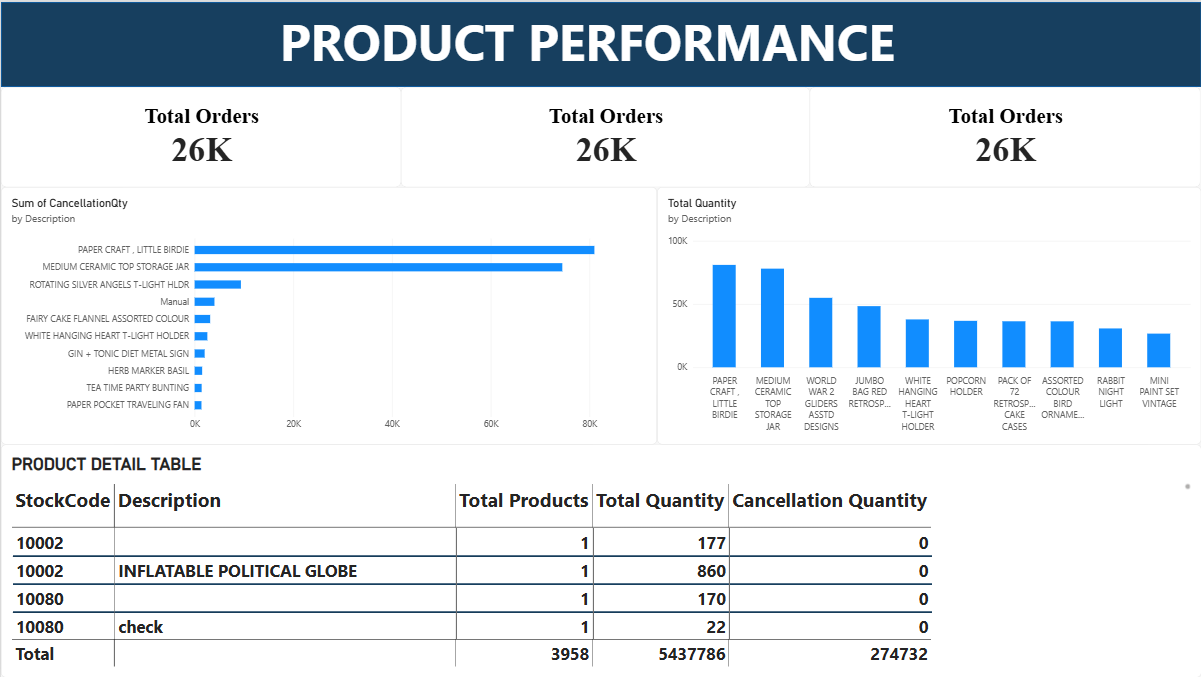

This screenshot's page, from the dashboard's own definition file:
{"tool":"powerbi","page":{"name":"Product Analysis","canvas":[1920,1080],"ordinal":1},"visuals":[{"type":"shape","box":[0,0,1920.4,135.8],"z":0},{"type":"cardVisual","fields":{"Data":["DateTable.Total Orders"]},"box":[0,135.8,640.1,160.5],"z":0,"group":"g1"},{"type":"textbox","box":[0,8.2,1920.4,111.1],"z":1000},{"type":"cardVisual","fields":{"Data":["DateTable.Total Orders"]},"box":[640.1,135.8,654.5,160.5],"z":1000,"group":"g1"},{"type":"group","id":"g1","title":"Group 1","box":[0,135.8,1920.4,160.5],"z":2000},{"type":"cardVisual","fields":{"Data":["DateTable.Total Orders"]},"box":[1294.3,135.8,625.7,160.5],"z":2000,"group":"g1"},{"type":"columnChart","fields":{"Category":["EcommerceData.Description"],"Y":["DateTable.Total Quantity"]},"box":[1049.7,296.4,870.7,411.7],"z":3000},{"type":"barChart","fields":{"Category":["EcommerceData.Description"],"Y":["Sum(EcommerceData.CancellationQty)"]},"box":[0,296.4,1049.7,411.7],"z":4000},{"type":"tableEx","title":"PRODUCT DETAIL TABLE     ","fields":{"Values":["EcommerceData.StockCode","EcommerceData.Description","DateTable.Total Products","DateTable.Total Quantity","DateTable.Cancellation Quantity"]},"box":[0,708.1,1920.4,372.6],"z":5000}]}

Visuals, with their boxes in screenshot pixels (x1, y1, x2, y2), scaled from the page's 1920x1080 canvas onto the 1201x677 screenshot:
shape: l=0, t=0, r=1200, b=85
cardVisual - DateTable.Total Orders: l=0, t=85, r=400, b=186
textbox: l=0, t=5, r=1200, b=75
cardVisual - DateTable.Total Orders: l=400, t=85, r=810, b=186
"Group 1" group: l=0, t=85, r=1200, b=186
cardVisual - DateTable.Total Orders: l=810, t=85, r=1200, b=186
columnChart - EcommerceData.Description x DateTable.Total Quantity: l=657, t=186, r=1200, b=444
barChart - EcommerceData.Description x Sum(EcommerceData.CancellationQty): l=0, t=186, r=657, b=444
"PRODUCT DETAIL TABLE     " tableEx: l=0, t=444, r=1200, b=676
